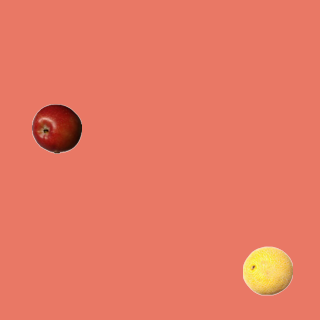Apple Braeburn: (31, 103, 81, 153)
Cantaloupe 1: (242, 245, 292, 295)
